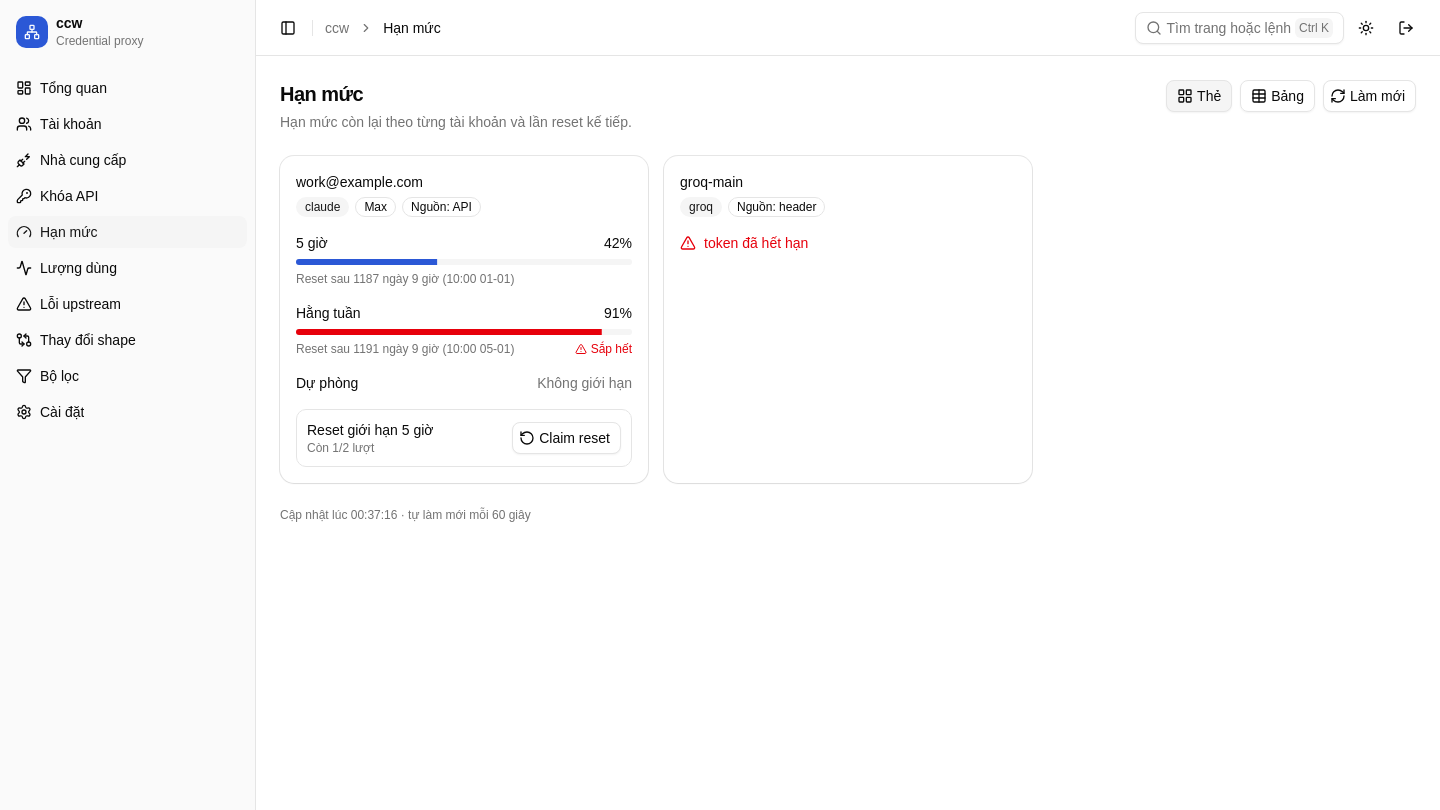
Test: quota page › shows the refusal of a blocked claim
The width and height of the screenshot is (1440, 810).
Expected: the element "work@example.com" is shown, [280,156,648,483]
Step 1. Click the button "Claim reset" → (567, 438), box [512,422,621,454]
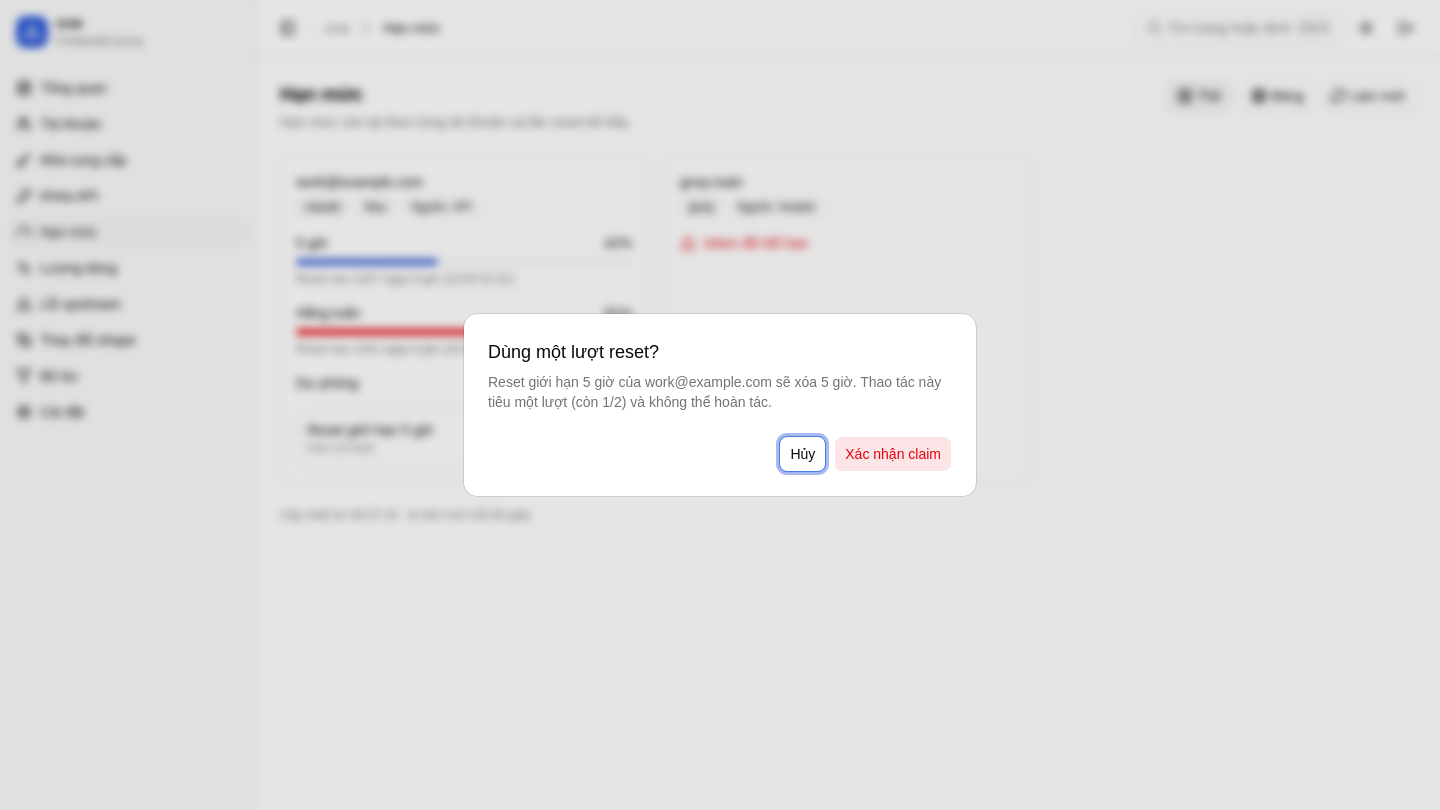
Step 2. Click the button "Xác nhận claim" → (893, 454), box [834,436,952,472]
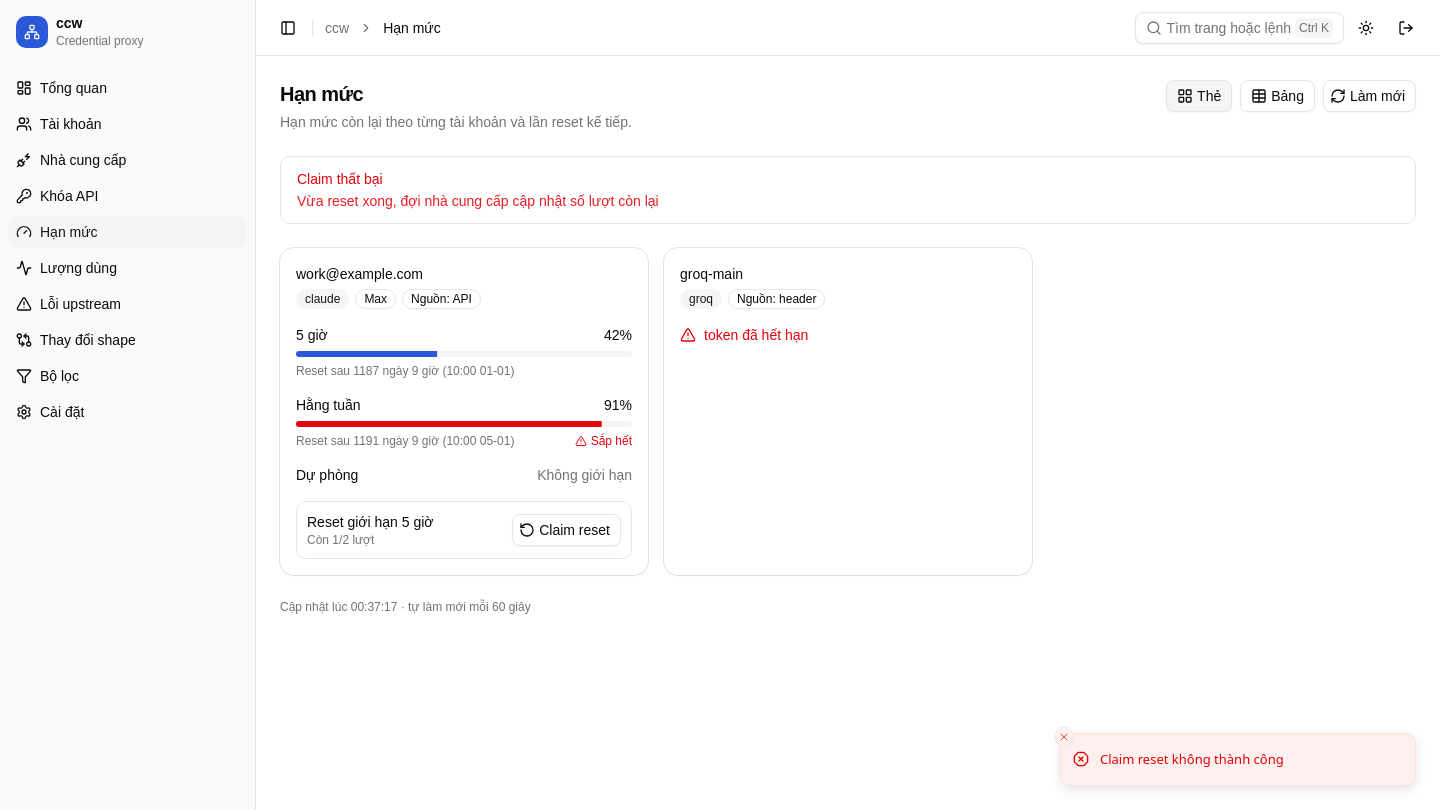
Result: the text "Claim thất bại" is shown at [297,171,383,187]
